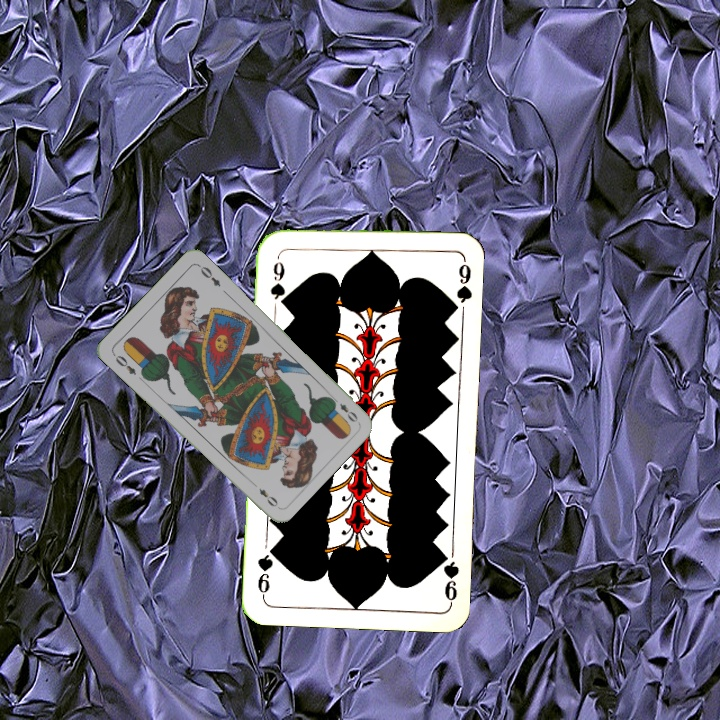EO: (328, 393, 361, 425), (109, 350, 139, 378)
G9: (436, 547, 462, 606), (266, 250, 288, 309)
